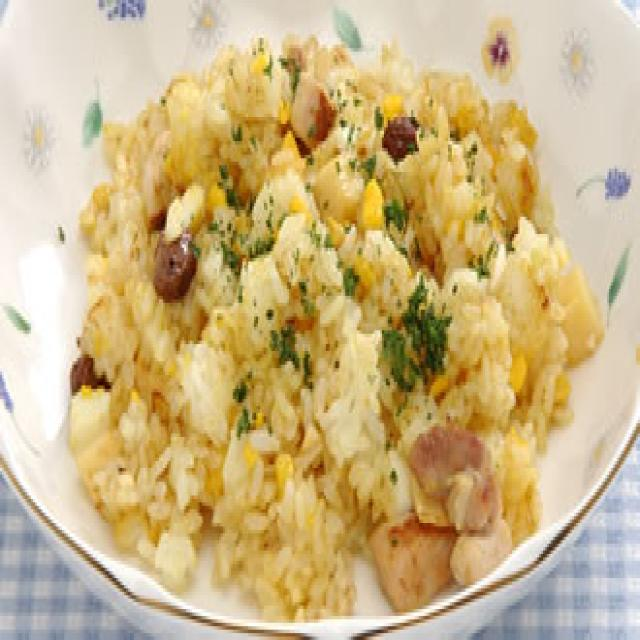米饭主食: (59, 45, 562, 537)
